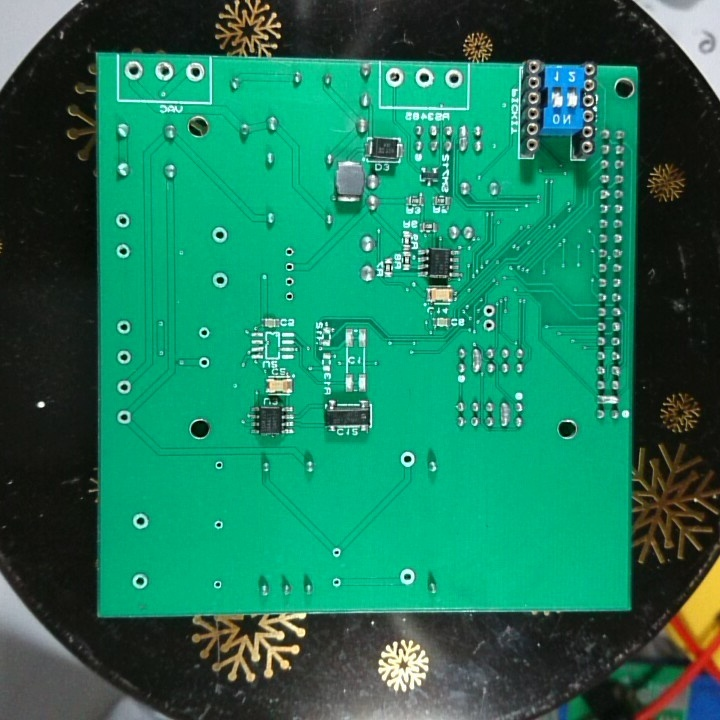F: (413, 66, 437, 93), (181, 62, 208, 86), (122, 59, 146, 84), (153, 60, 176, 86), (384, 66, 407, 91), (396, 565, 419, 590), (128, 510, 149, 535), (210, 268, 230, 294), (444, 66, 464, 91), (114, 345, 133, 370), (210, 223, 229, 247), (398, 449, 419, 470), (129, 570, 151, 590), (113, 211, 134, 231), (113, 317, 134, 337), (113, 241, 132, 263), (114, 378, 135, 396), (116, 406, 133, 428), (481, 318, 499, 335), (196, 353, 212, 372), (195, 323, 210, 343), (481, 303, 500, 318), (212, 457, 227, 475), (281, 244, 297, 260), (329, 573, 344, 590), (282, 260, 298, 275), (281, 290, 296, 305), (283, 273, 297, 289), (330, 545, 344, 561), (213, 517, 225, 535), (212, 578, 222, 592)
P: (456, 120, 470, 156), (594, 392, 624, 408), (497, 398, 511, 432), (470, 344, 484, 376)
